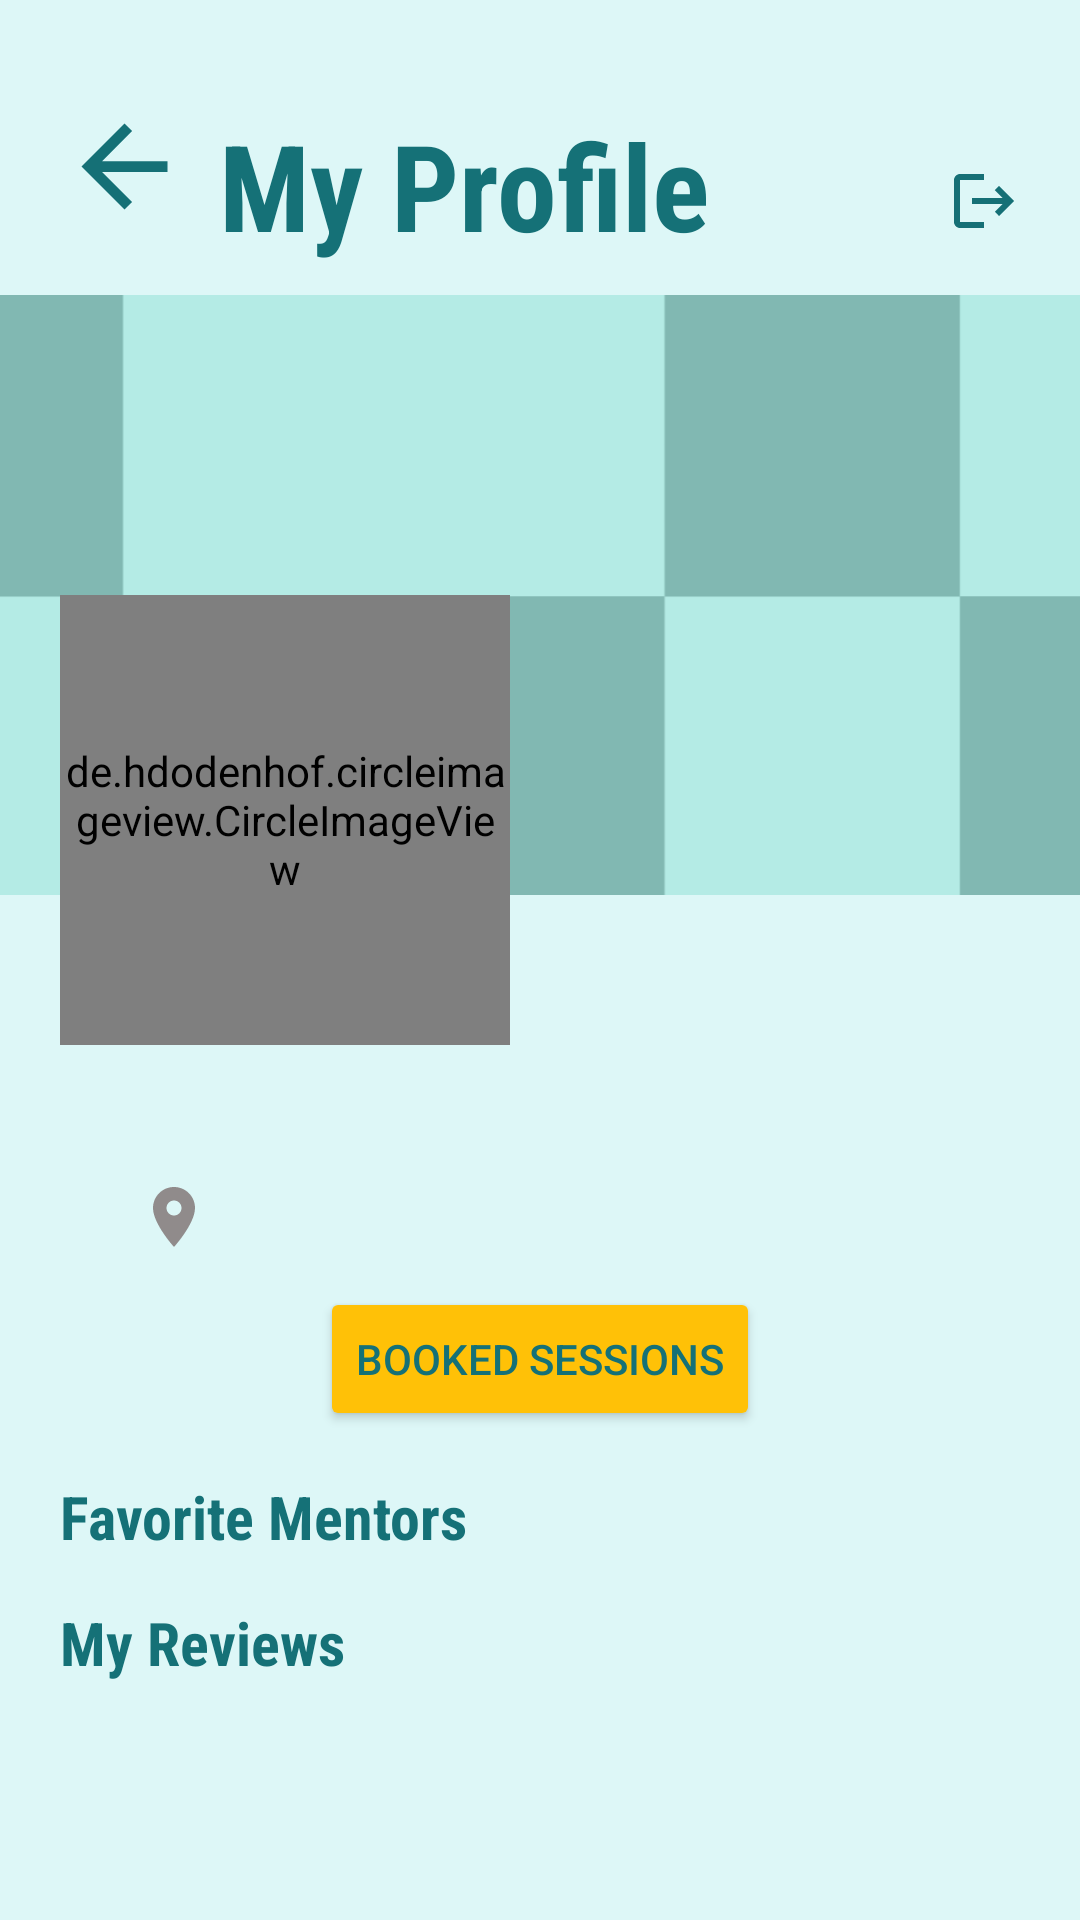

Icon bounding boxes for this 1080w x 1920h phone screenshot, format (x1, y1, x2, y2):
arrow back: (81, 123, 168, 210)
location on: (153, 1187, 195, 1247)
